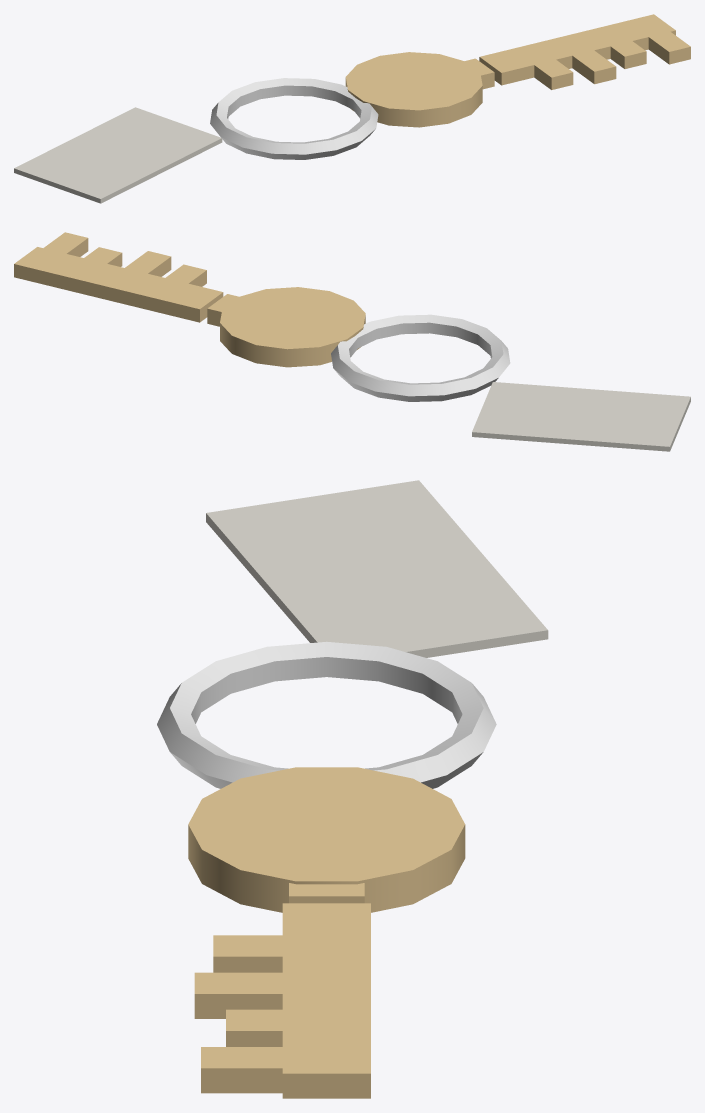
File: SM_Key_Spare.fbx
3 views of the same model, one above another, from view 1: azimuth 30°, elevation 25°; view 2: azimuth 150°, elevation 25°; view 3: azimuth 270°, elevation 25° (orthographic). The views are drawn at different scales.
Visible parts, largest first — view 1: SM_Key_Spare_1; view 2: SM_Key_Spare_1; view 3: SM_Key_Spare_1.
Boxes of the visible parts, box(x1,y1,x2,y2) form: SM_Key_Spare_1: box(14, 14, 690, 203); SM_Key_Spare_1: box(14, 232, 690, 451); SM_Key_Spare_1: box(157, 480, 548, 1098).
Size of the model in its own units: 11.52 by 0.3 by 3.11.
